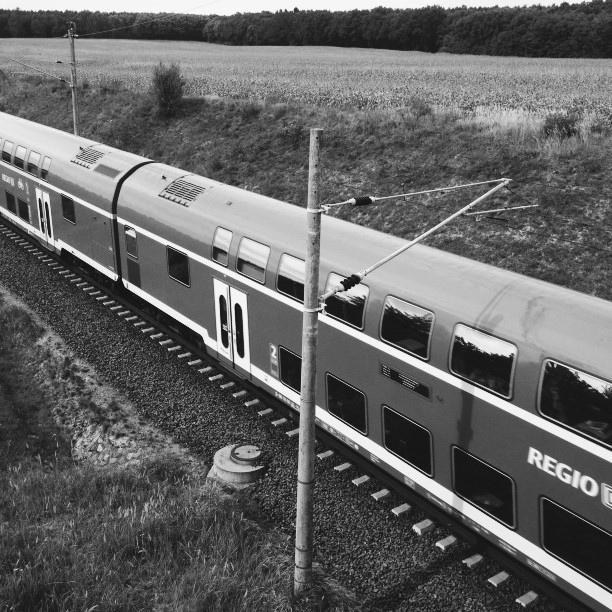Train: (0, 113, 612, 606)
